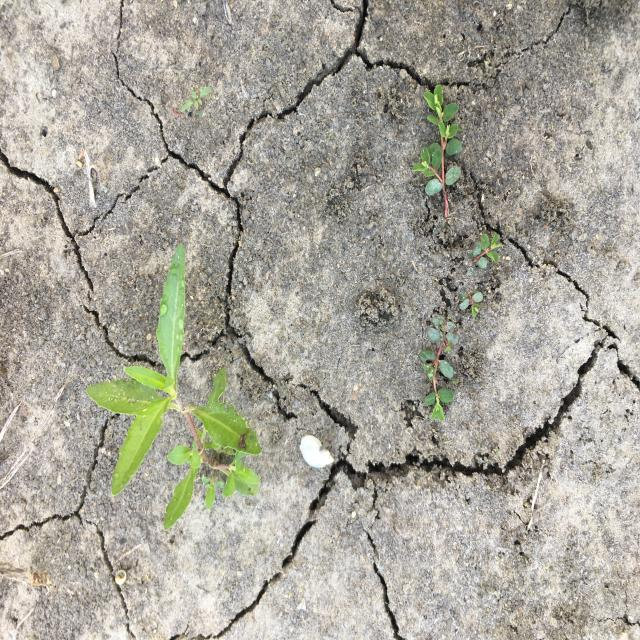Eclipta: (84, 242, 263, 533)
SpottedSpurge: (412, 82, 506, 424)
